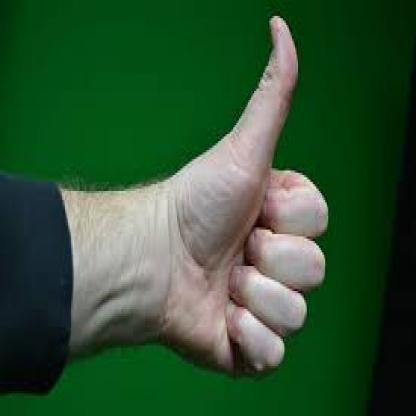thumb_up: (172, 13, 330, 380)
